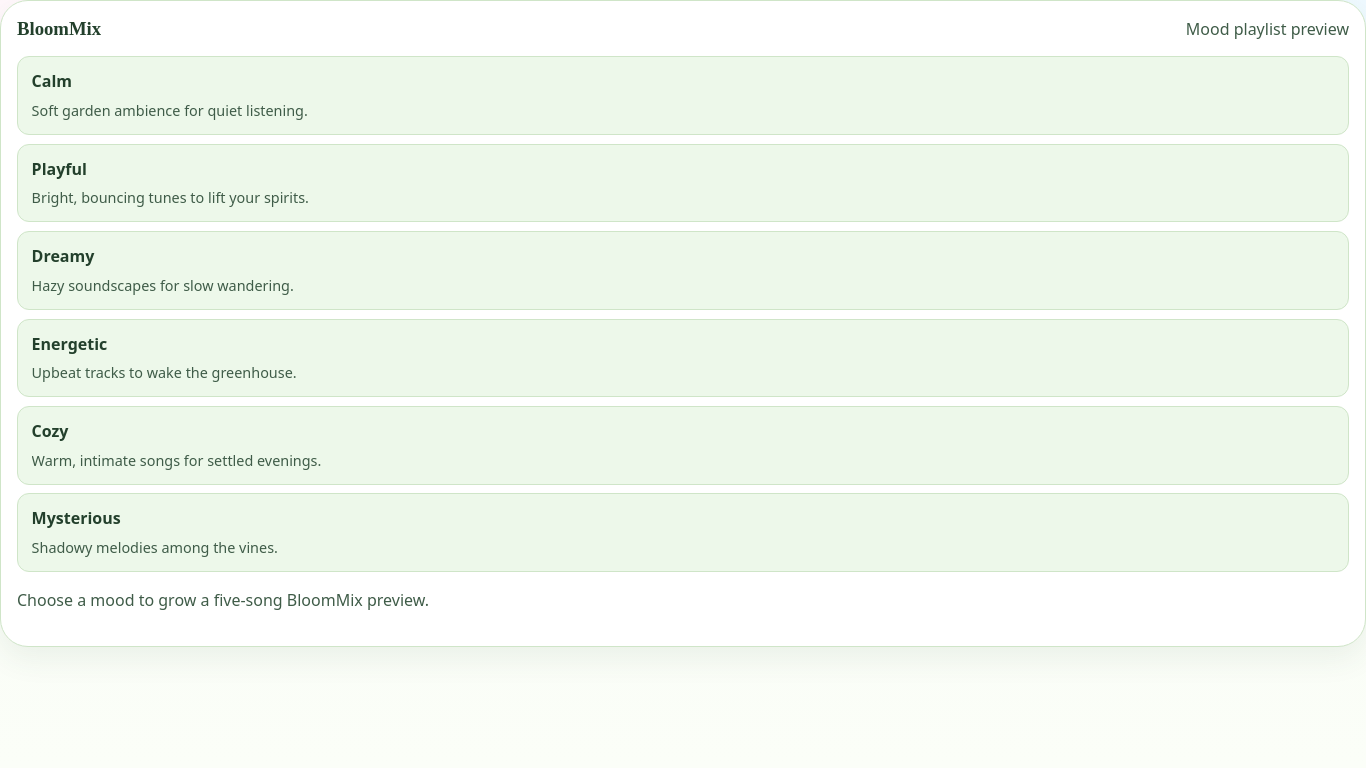
Scenario: BloomMixPanel › shows an empty state when no playable tracks match
What coordinates should you click on to do the following:
click the button "Calm Soft garden ambience for quiet listening."
I would click on:
 (52, 81)
Its box is [17, 56, 1349, 135].
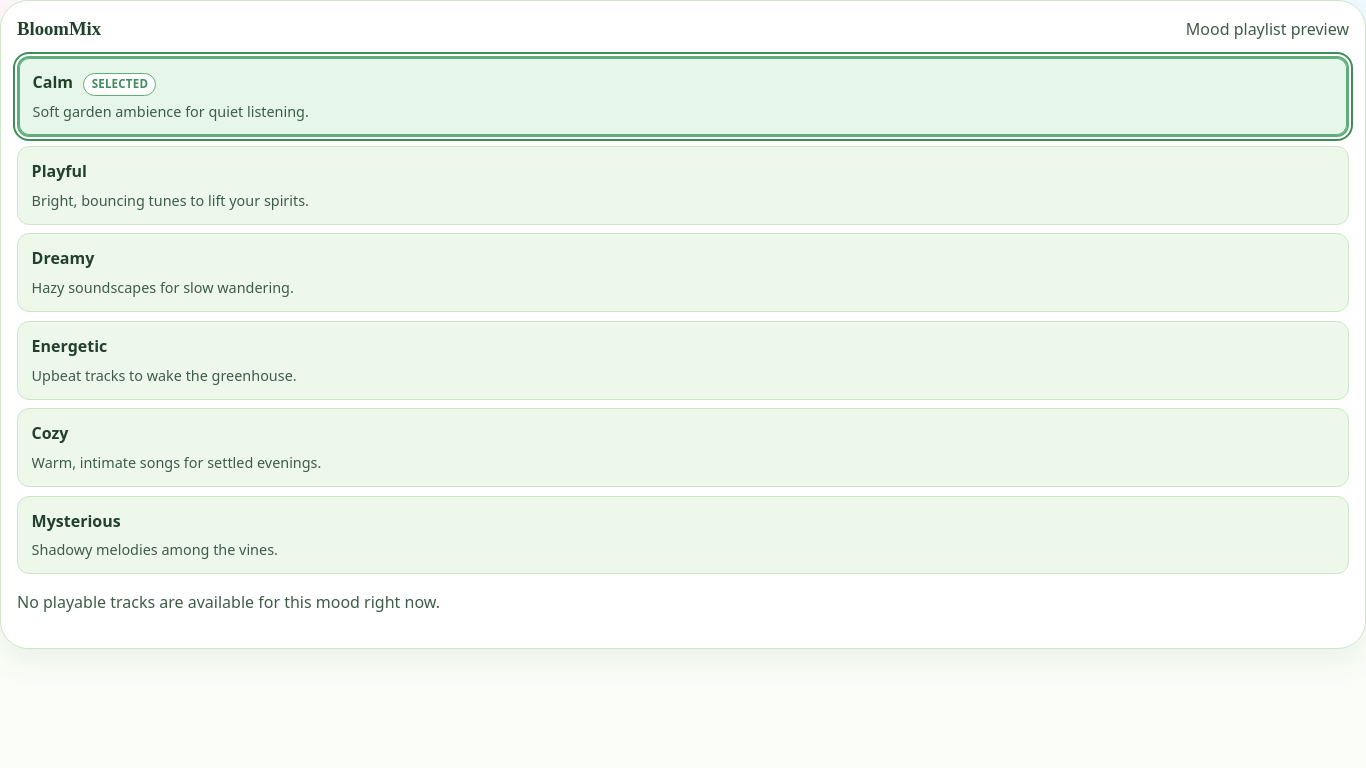
Now the text "No playable tracks are available for this mood right now." is shown, box [17, 591, 440, 613]
